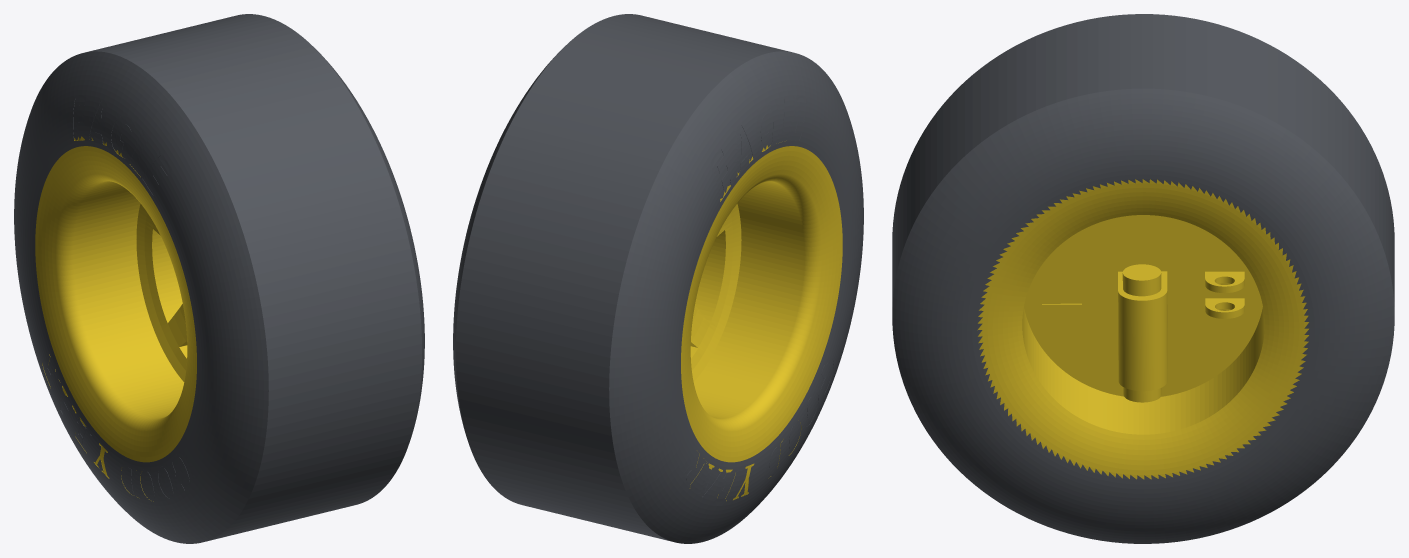
The model's file is jordan_191_candidate_wheel_front.glb.
3 renders of one model, left to right at view 1: azimuth 30°, elevation 25°; view 2: azimuth 150°, elevation 25°; view 3: azimuth 270°, elevation 25°, orthographic.
Visible parts, largest first — view 1: fl_009_tire_black, fl_007_tire_black, fl_010_rim_gold, fl_007_rim_gold, fl_008_rim_gold, fl_000_rim_gold, fl_001_tire_black, fl_002_tire_black, fl_006_tire_black, fl_011_rim_gold; view 2: fl_009_tire_black, fl_007_tire_black, fl_010_rim_gold, fl_007_rim_gold, fl_008_rim_gold, fl_000_rim_gold, fl_001_tire_black, fl_002_tire_black, fl_006_tire_black, fl_011_rim_gold; view 3: fl_009_tire_black, fl_009_rim_gold, fl_015_rim_gold, fl_010_rim_gold, fl_011_rim_gold, fl_012_rim_gold.
Part boxes in pixels (left/top/right/bottom): fl_009_tire_black: left=86, top=14, right=424, bottom=541; fl_007_tire_black: left=14, top=51, right=268, bottom=543; fl_010_rim_gold: left=73, top=181, right=187, bottom=418; fl_007_rim_gold: left=35, top=146, right=196, bottom=462; fl_008_rim_gold: left=56, top=174, right=187, bottom=431; fl_000_rim_gold: left=136, top=203, right=186, bottom=381; fl_001_tire_black: left=43, top=97, right=192, bottom=498; fl_002_tire_black: left=47, top=134, right=176, bottom=501; fl_006_tire_black: left=45, top=110, right=172, bottom=498; fl_011_rim_gold: left=153, top=223, right=186, bottom=346; fl_009_tire_black: left=453, top=14, right=791, bottom=541; fl_007_tire_black: left=609, top=51, right=863, bottom=543; fl_010_rim_gold: left=690, top=181, right=804, bottom=418; fl_007_rim_gold: left=681, top=146, right=842, bottom=462; fl_008_rim_gold: left=690, top=174, right=821, bottom=431; fl_000_rim_gold: left=691, top=203, right=741, bottom=381; fl_001_tire_black: left=683, top=99, right=833, bottom=488; fl_002_tire_black: left=686, top=97, right=818, bottom=501; fl_006_tire_black: left=686, top=135, right=815, bottom=491; fl_011_rim_gold: left=691, top=223, right=724, bottom=347; fl_009_tire_black: left=892, top=14, right=1394, bottom=543; fl_009_rim_gold: left=977, top=179, right=1308, bottom=479; fl_015_rim_gold: left=1024, top=215, right=1262, bottom=402; fl_010_rim_gold: left=1022, top=307, right=1264, bottom=434; fl_011_rim_gold: left=1205, top=271, right=1244, bottom=318; fl_012_rim_gold: left=1205, top=283, right=1244, bottom=318.
Size of what is drawn, in the model's own units: 0.33 by 0.6946 by 0.6946.
